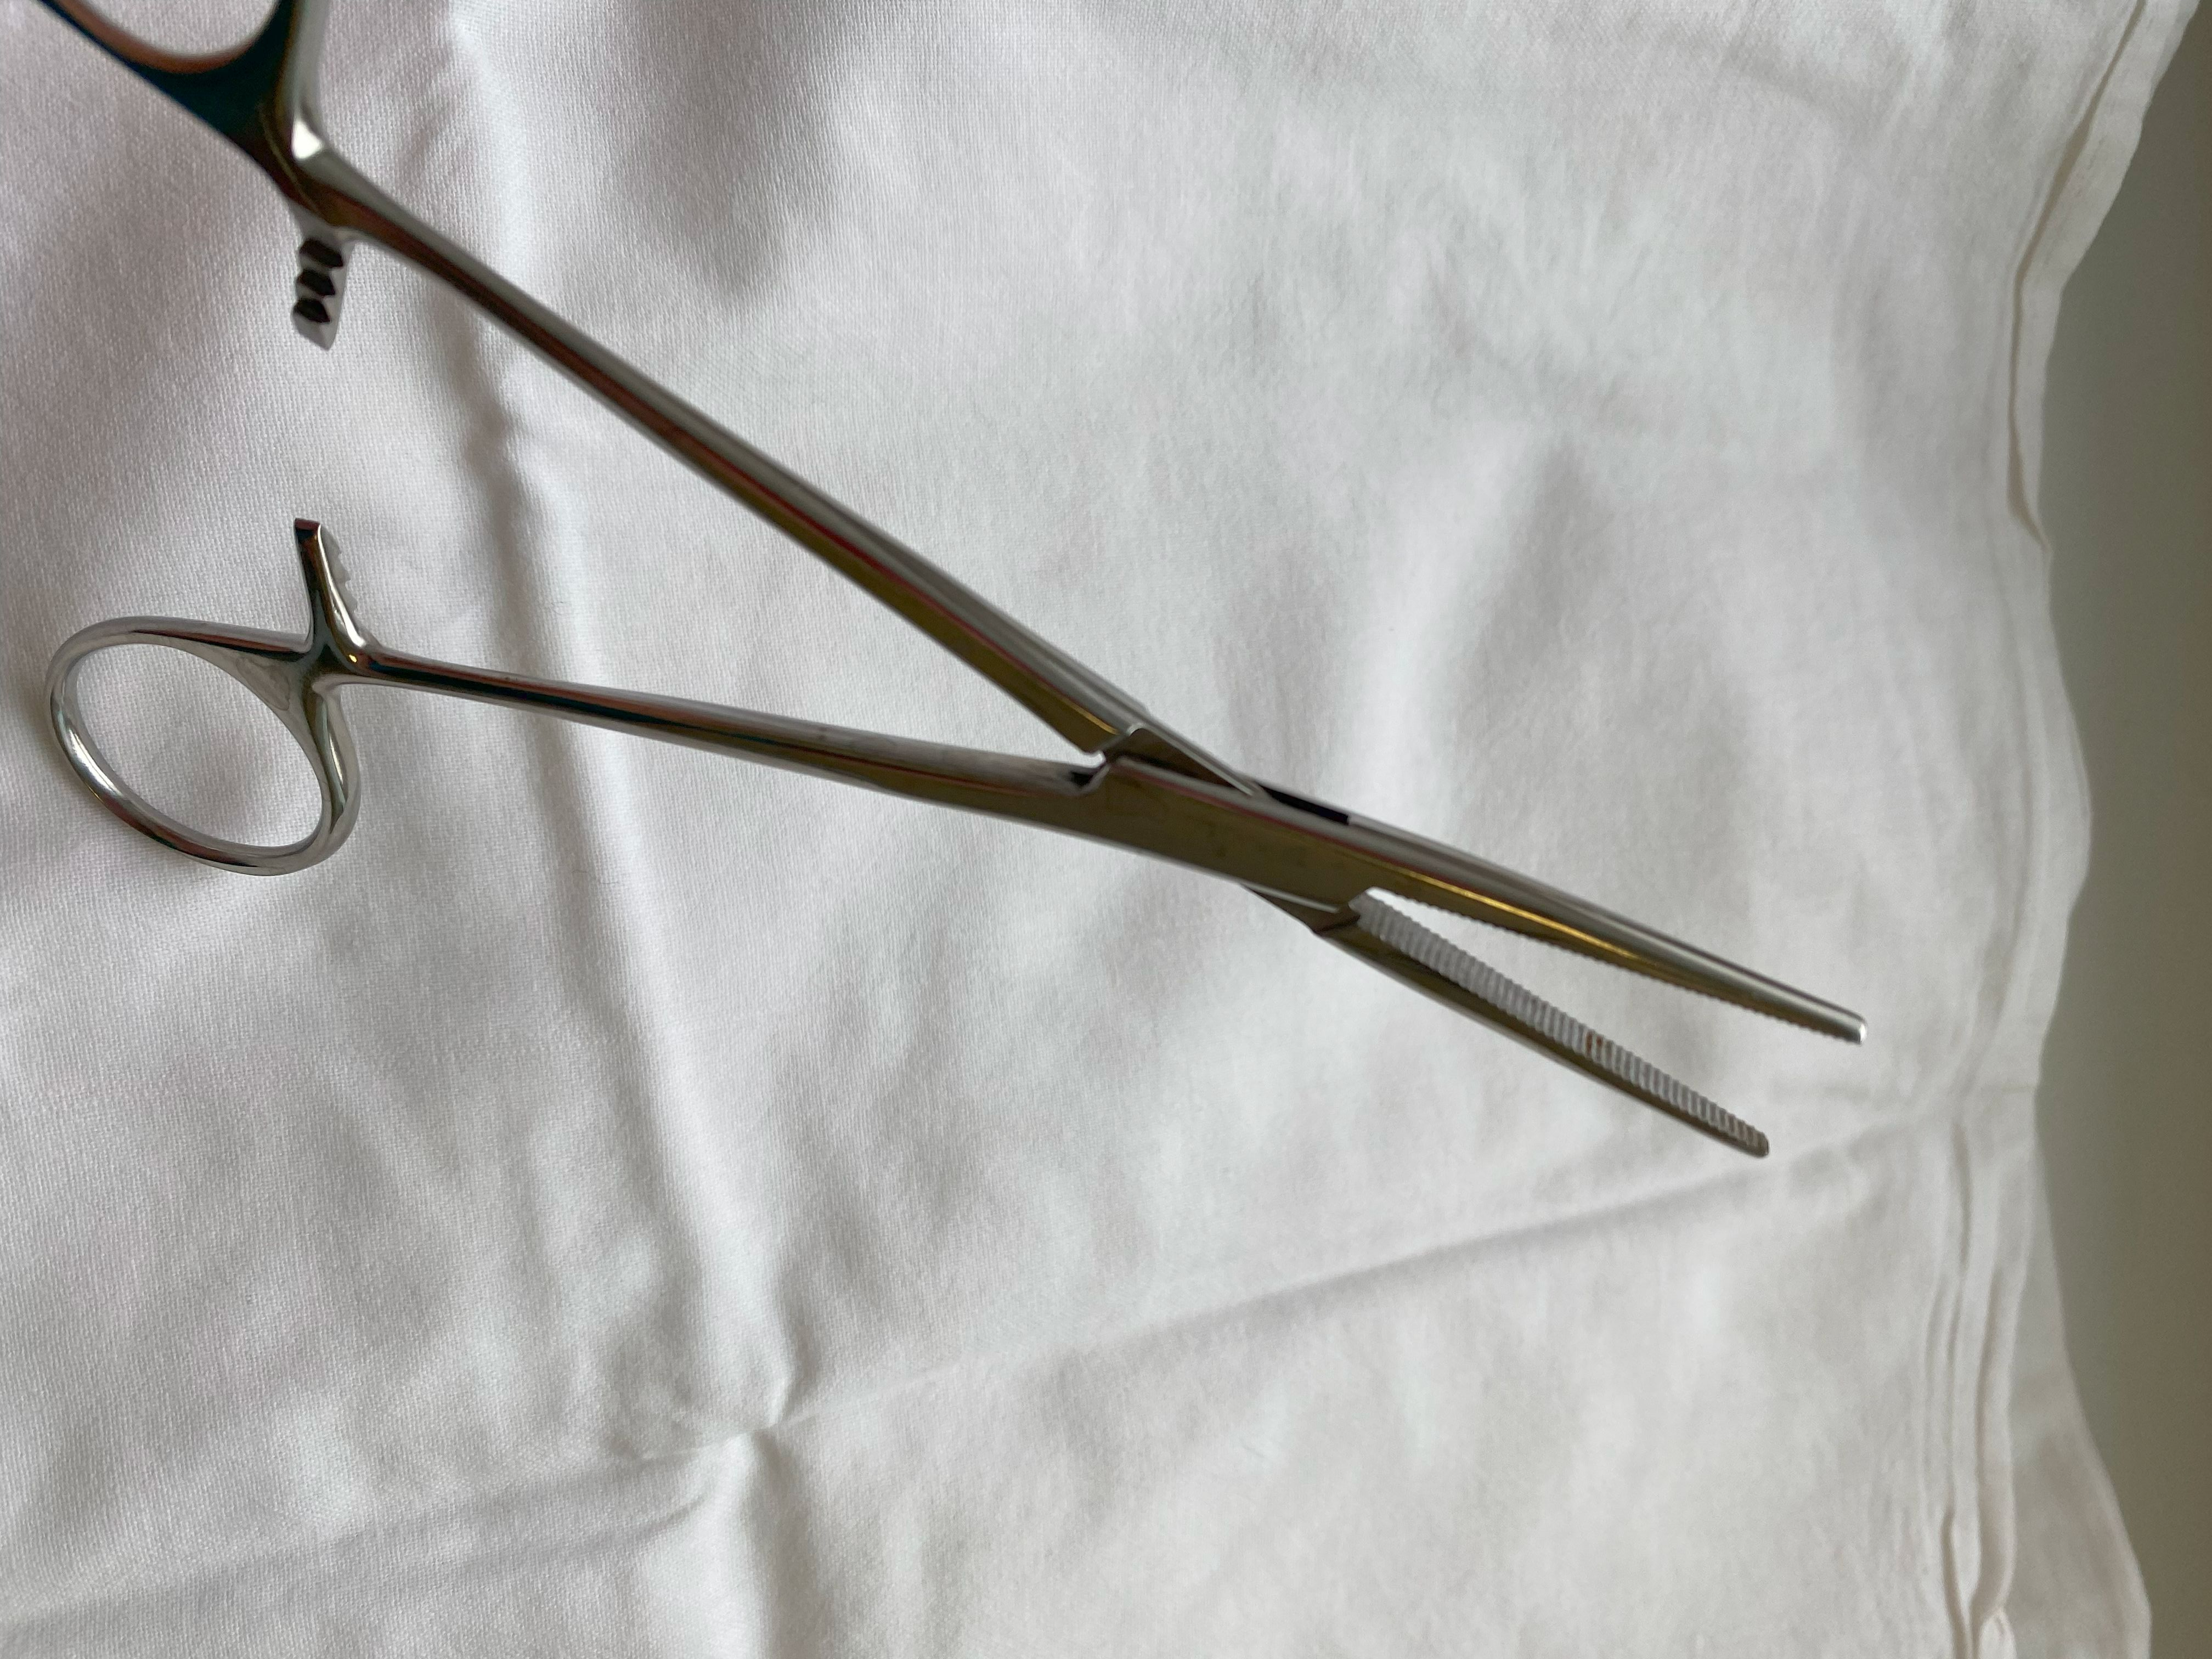clamp: (45, 0, 1865, 1155), (47, 0, 1864, 1154)
